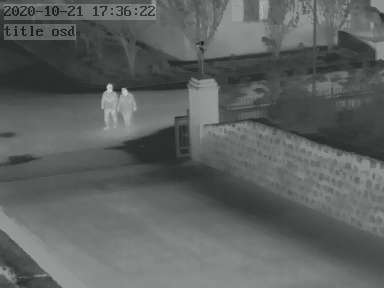person: (98, 83, 117, 128), (118, 84, 136, 129)
